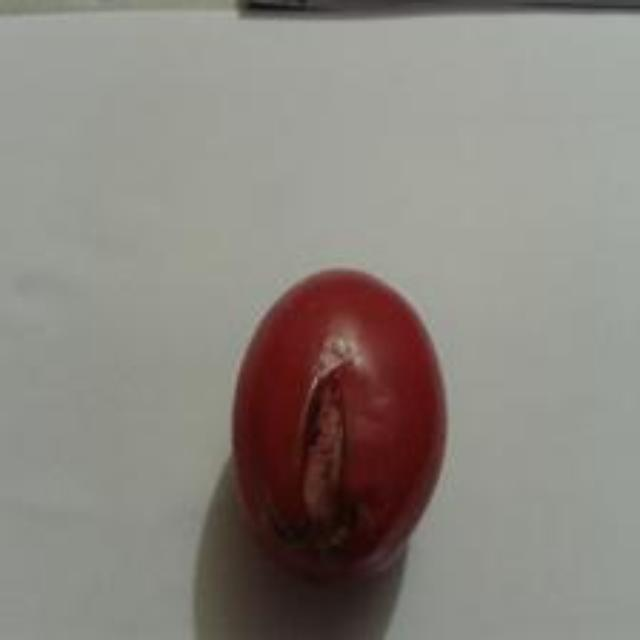defect: (223, 251, 454, 587)
